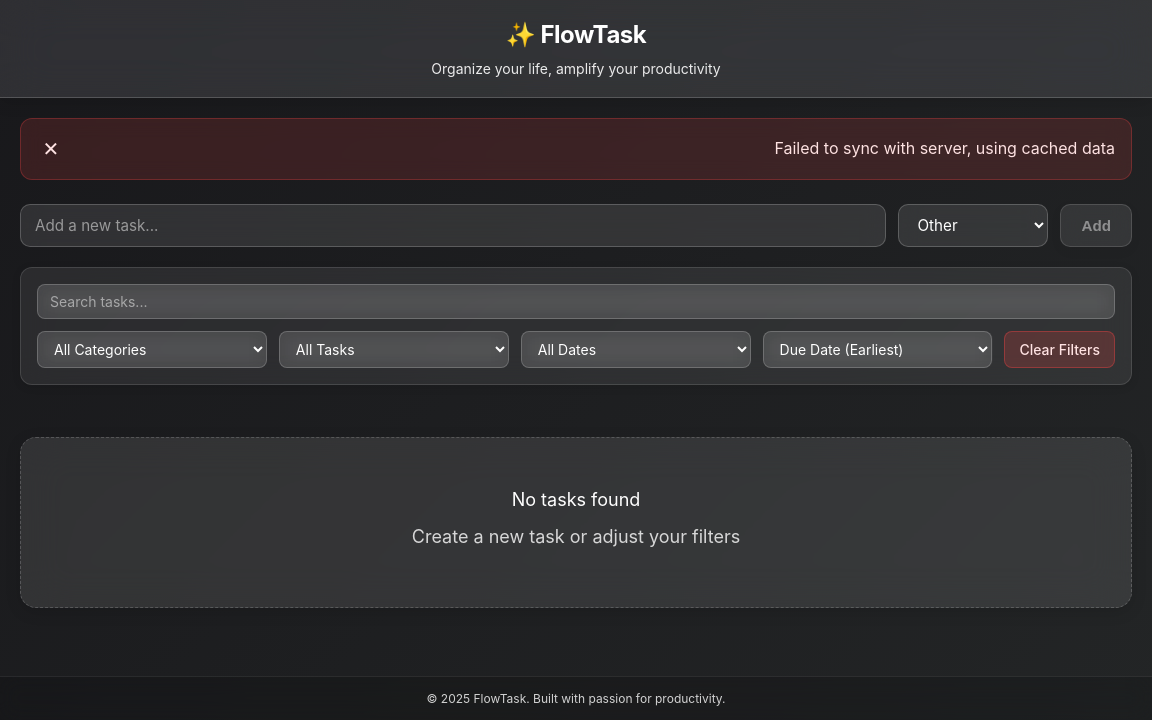
Test: App Component Integration › closes error message when close button is clicked
Expected: the text "✕ Failed to sync with server, using cached data" is shown, [20,118,1132,180]
Click the button named "Close error" at [51, 149], box [37,135,65,163]
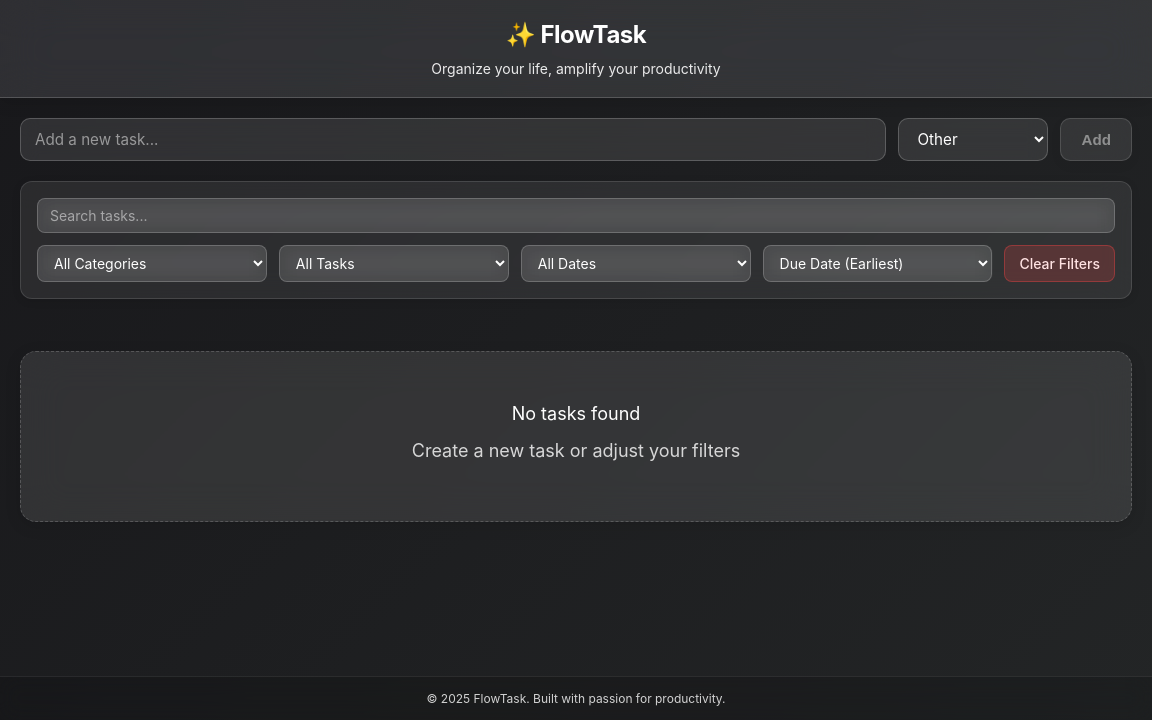
Now the text "Failed to sync" is gone
